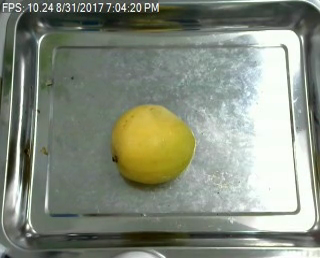Mango: (103, 103, 196, 187)
